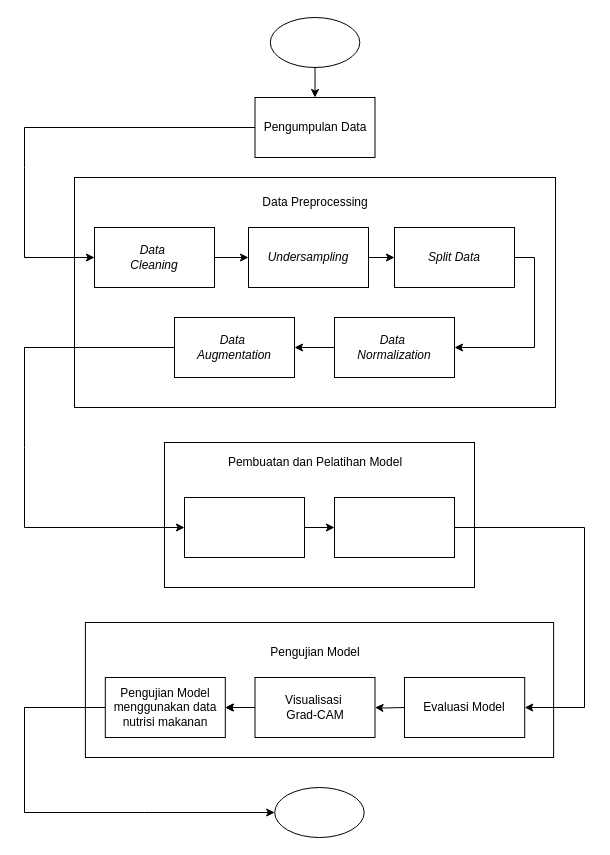
This 610x855 diagram has some shape labels left out. The shapes that lost their labels are listed below. From the top down, each one's box as (x1, y1, x2, y2) in pixels, then its label:
(269, 16, 360, 68): Mulai
(184, 496, 304, 558): Transfer Learning EfficientNetV2
(334, 496, 454, 558): Training Model
(274, 786, 364, 838): Selesai
